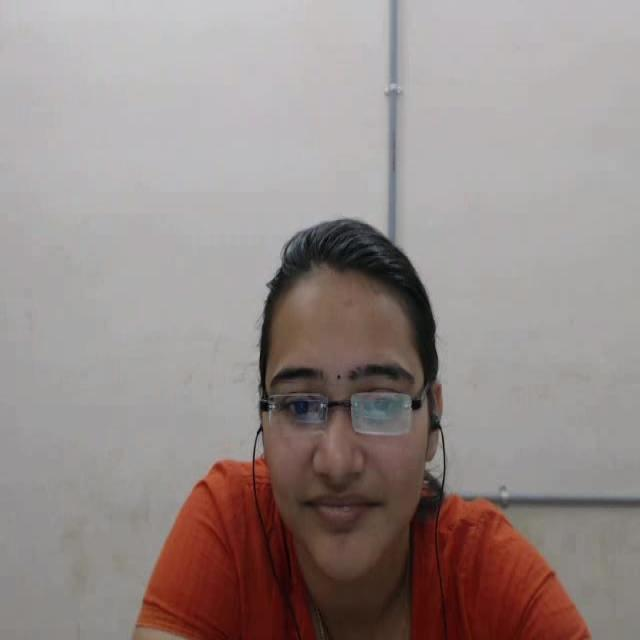Engaged: (209, 177, 509, 624)
